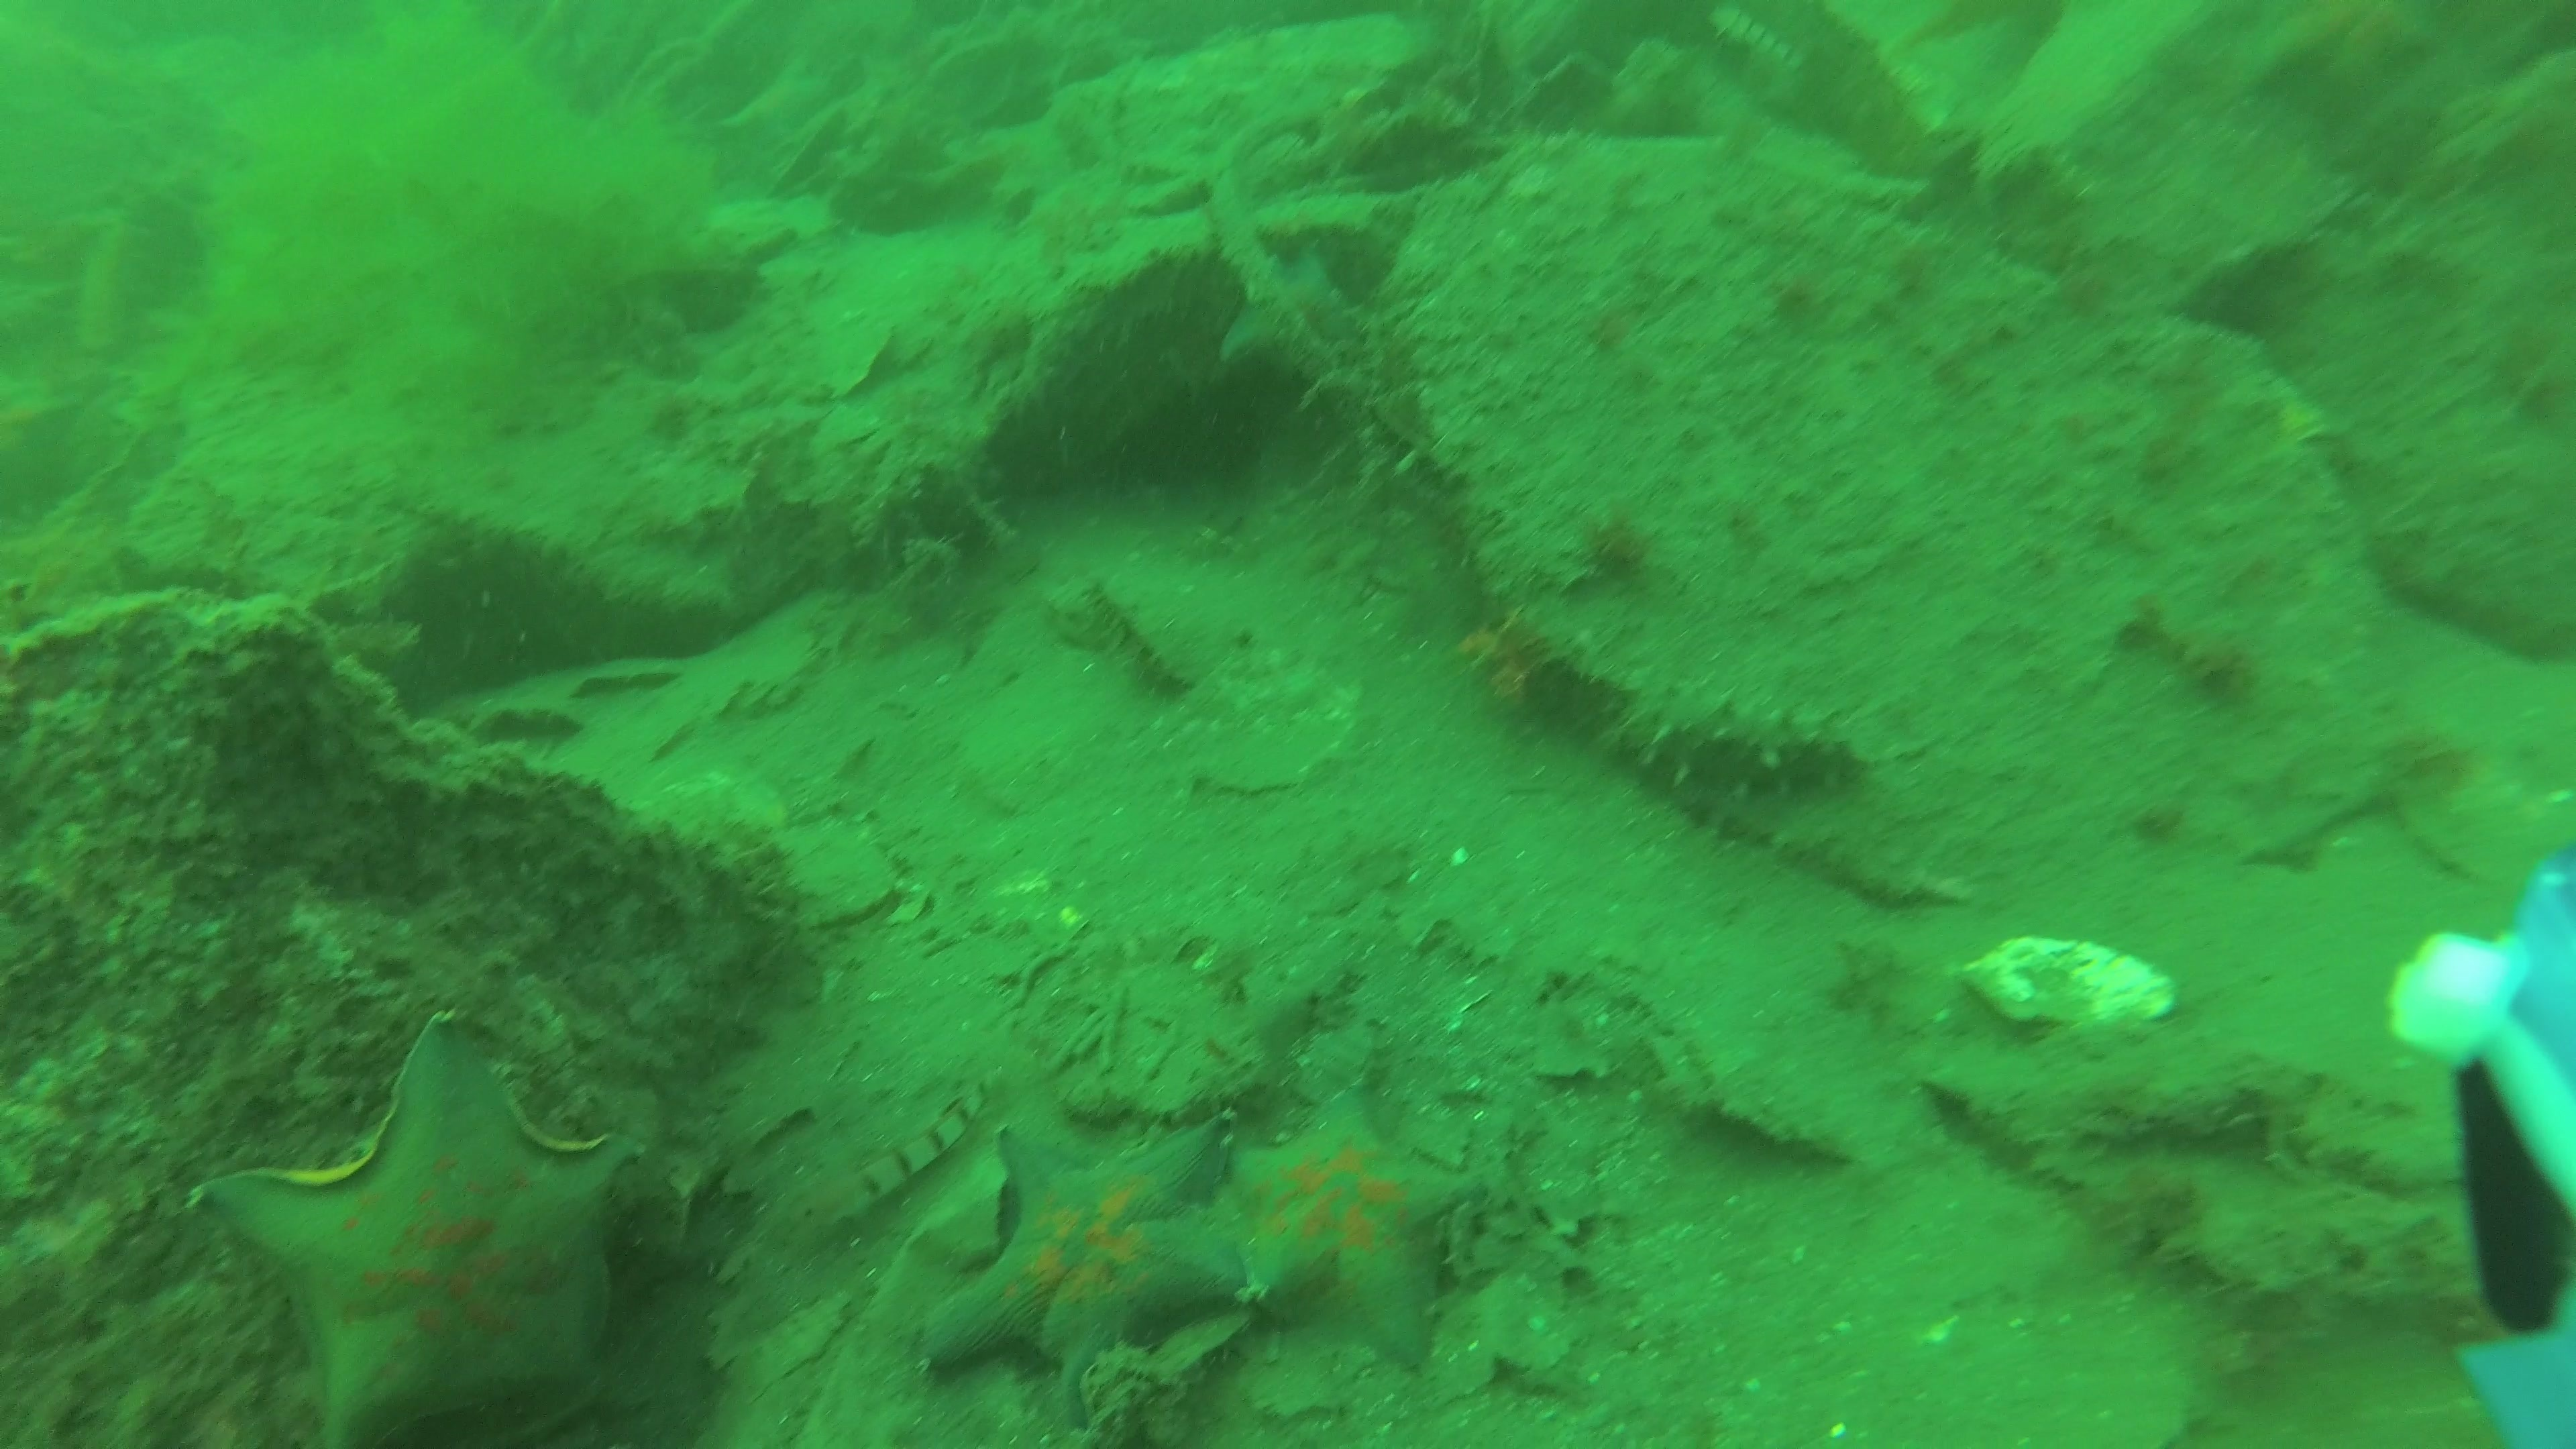holothurian: (1629, 674, 1865, 805)
scallop: (1143, 648, 1357, 794), (1960, 916, 2181, 1026), (648, 771, 786, 872), (761, 817, 892, 922)
starfish: (195, 1016, 640, 1449), (920, 1125, 1253, 1424), (1221, 1092, 1484, 1369), (1223, 249, 1359, 380)
